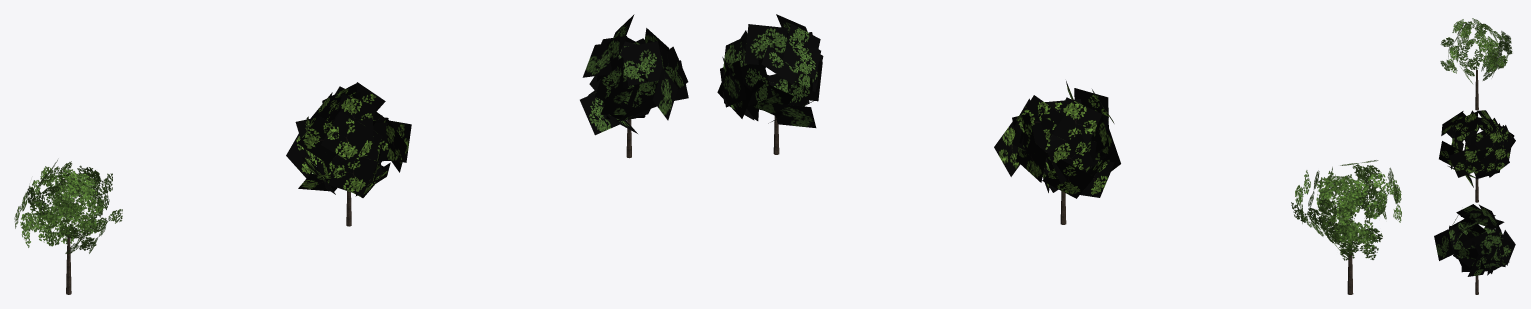
Rendered from trees_lite.glb.
3 views of the same model, side by side, from view 1: azimuth 30°, elevation 25°; view 2: azimuth 150°, elevation 25°; view 3: azimuth 270°, elevation 25° (orthographic). The views are drawn at different scales.
Parts seen in each view (by area): view 1: TreeLiteLeaves1, TreeLiteLeaves2, TreeLiteLeaves0; view 2: TreeLiteLeaves1, TreeLiteLeaves2, TreeLiteLeaves0; view 3: TreeLiteLeaves1, TreeLiteLeaves2, TreeLiteLeaves0, TreeLiteWood0, TreeLiteWood1, TreeLiteWood2.
Boxes of the visible parts, x1,y1,x2,y2 form: TreeLiteLeaves1: (286,82,411,197); TreeLiteLeaves2: (580,14,688,135); TreeLiteLeaves0: (14,158,122,253); TreeLiteLeaves1: (994,81,1120,198); TreeLiteLeaves2: (717,14,823,127); TreeLiteLeaves0: (1291,160,1401,260); TreeLiteLeaves1: (1439,110,1515,187); TreeLiteLeaves2: (1434,204,1515,276); TreeLiteLeaves0: (1440,18,1512,83); TreeLiteWood0: (1475,69,1478,110); TreeLiteWood1: (1475,177,1478,202); TreeLiteWood2: (1475,275,1478,294).
Size of the model in its own units: 236 by 45.09 by 37.96.
4 materials, 4 textured.
